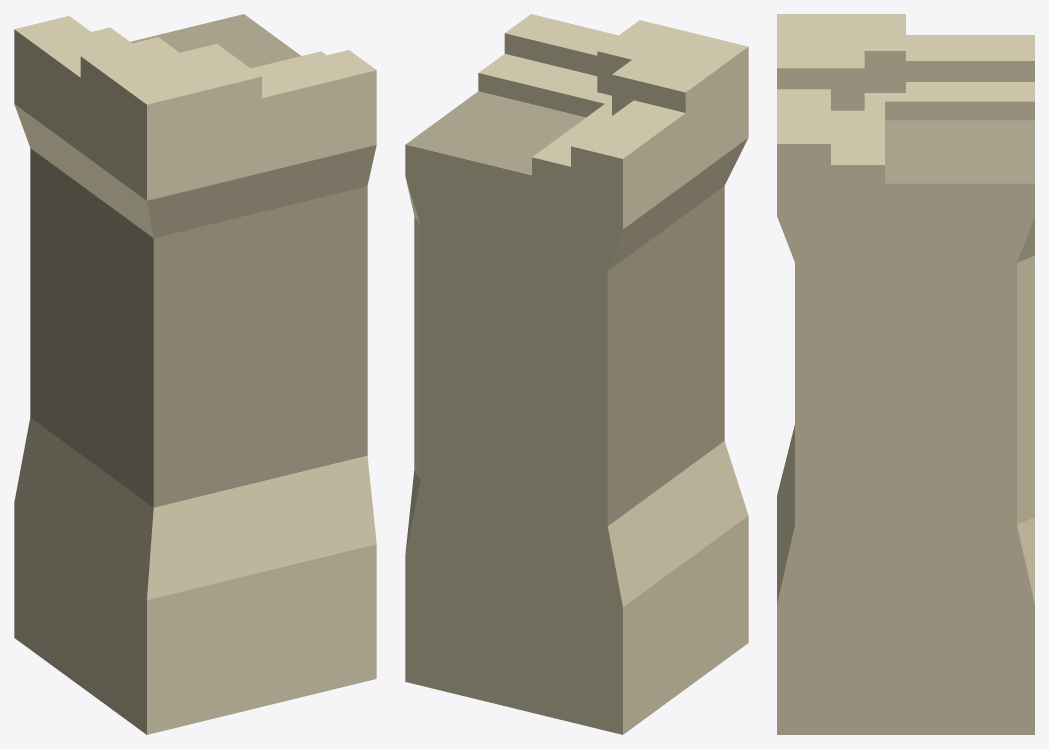
File: wallNarrowCorner.fbx
3 renders of one model, left to right at view 1: azimuth 30°, elevation 25°; view 2: azimuth 150°, elevation 25°; view 3: azimuth 270°, elevation 25°, orthographic. The views are drawn at different scales.
Parts seen in each view (by area): view 1: wallNarrowCorner; view 2: wallNarrowCorner; view 3: wallNarrowCorner.
Part boxes in pixels (bbox=[...]): wallNarrowCorner: bbox=[14, 14, 376, 734]; wallNarrowCorner: bbox=[405, 14, 748, 734]; wallNarrowCorner: bbox=[777, 14, 1034, 734].
Bounding box in the file's own units: 5 × 13.1 × 5.
